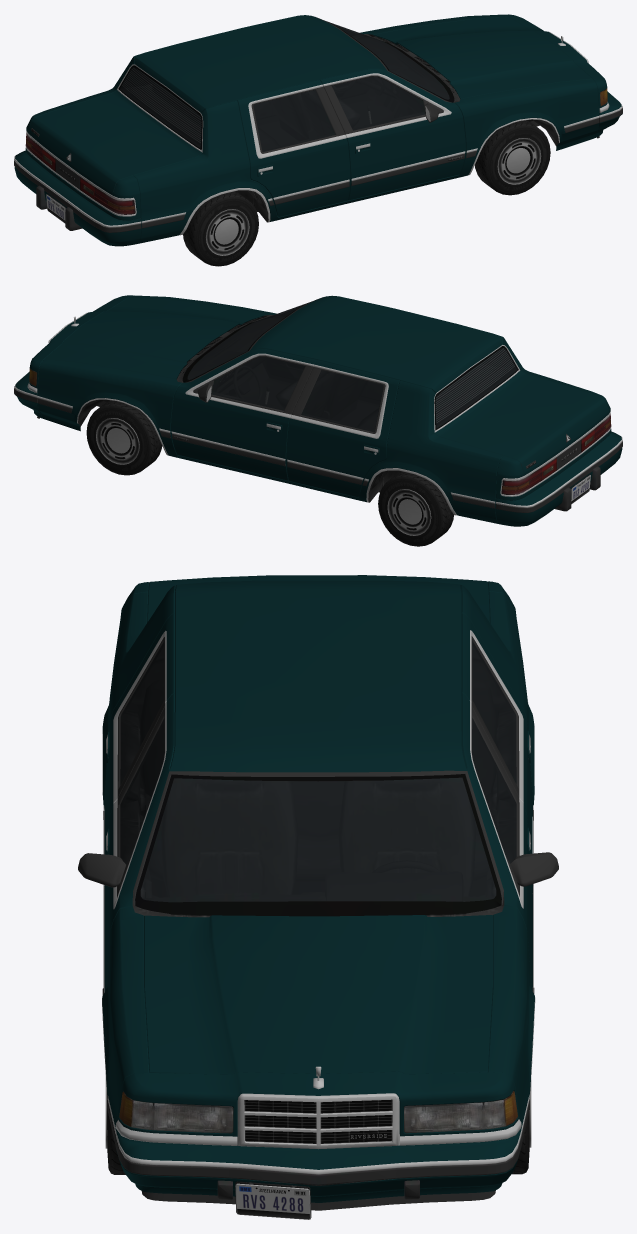
File: riverside_88.glb
3 views of the same model, one above another, from view 1: azimuth 30°, elevation 25°; view 2: azimuth 150°, elevation 25°; view 3: azimuth 270°, elevation 25° (orthographic). The views are drawn at different scales.
Visible parts, largest first — view 1: Riverside88_Body_Riverside88_Bodymat_0, Riverside88_Interior_UCB_Interiors_2_0, Riverside88_bottom_UCB_BOTTOM_0, Riverside88_Hood_Riverside88_Bodymat_0, Riverside88_Trunk_door_Riverside88_Bodymat_0, Riverside88_WheelStock_FR_RB1c_Tire_1k_0, Riverside88_WheelStock_RR_RB1c_Tire_1k_0, Riverside88_Body_Glass_UCB_Lights_and_Glass_Transperent_0, Riverside88_Glass_Passenger_UCB_Lights_and_Glass_Transperent, Riverside88_Rear_window_UCB_Lights_and_Glass_Transperent_0, Riverside88_Bumper_rear_Riverside88_Bodymat_0, Riverside88_Windshield_UCB_Lights_and_Glass_Transperent_0 (+3 smaller); view 2: Riverside88_Body_Riverside88_Bodymat_0, Riverside88_Interior_UCB_Interiors_2_0, Riverside88_bottom_UCB_BOTTOM_0, Riverside88_Hood_Riverside88_Bodymat_0, Riverside88_Trunk_door_Riverside88_Bodymat_0, Riverside88_WheelStock_FL_RB1c_Tire_1k_0, Riverside88_WheelStock_FR_RB1c_Tire_1k_0, Riverside88_Body_Glass_UCB_Lights_and_Glass_Transperent_0, Riverside88_Glass_Driver_UCB_Lights_and_Glass_Transperent_0, Riverside88_Rear_window_UCB_Lights_and_Glass_Transperent_0, Riverside88_Bumper_rear_Riverside88_Bodymat_0, Riverside88_Windshield_UCB_Lights_and_Glass_Transperent_0 (+3 smaller); view 3: Riverside88_Body_Riverside88_Bodymat_0, Riverside88_Hood_Riverside88_Bodymat_0, Riverside88_Interior_UCB_Interiors_2_0, Riverside88_Windshield_UCB_Lights_and_Glass_Transperent_0, Riverside88_bottom_UCB_BOTTOM_0, Riverside88_Bumper_Front_Riverside88_Bodymat_0, Riverside88_Bumper_Front_inner_UCB_BOTTOM_0, Riverside88_Headlights_Glass_UCB_Lights_and_Glass_Transperen, Riverside88_Body_Glass_UCB_Lights_and_Glass_Transperent_0, Riverside88_Headlights_UCB_Lights_and_Glass_0, Riverside88_Trunk_door_Riverside88_Bodymat_0, Riverside88_Glass_Driver_UCB_Lights_and_Glass_Transperent_0 (+2 smaller).
Part boxes in pixels (x1,y1,x2,y2): Riverside88_Body_Riverside88_Bodymat_0: [25, 14, 607, 243]; Riverside88_Interior_UCB_Interiors_2_0: [120, 26, 448, 151]; Riverside88_bottom_UCB_BOTTOM_0: [25, 17, 609, 235]; Riverside88_Hood_Riverside88_Bodymat_0: [373, 16, 592, 98]; Riverside88_Trunk_door_Riverside88_Bodymat_0: [28, 90, 201, 195]; Riverside88_WheelStock_FR_RB1c_Tire_1k_0: [475, 120, 550, 195]; Riverside88_WheelStock_RR_RB1c_Tire_1k_0: [183, 191, 258, 266]; Riverside88_Body_Glass_UCB_Lights_and_Glass_Transperent_0: [253, 90, 335, 151]; Riverside88_Glass_Passenger_UCB_Lights_and_Glass_Transperent: [332, 76, 425, 130]; Riverside88_Rear_window_UCB_Lights_and_Glass_Transperent_0: [120, 67, 201, 148]; Riverside88_Bumper_rear_Riverside88_Bodymat_0: [14, 150, 141, 246]; Riverside88_Windshield_UCB_Lights_and_Glass_Transperent_0: [326, 21, 449, 99]; Riverside88_Body_Riverside88_Bodymat_0: [29, 295, 611, 523]; Riverside88_Interior_UCB_Interiors_2_0: [188, 307, 516, 431]; Riverside88_bottom_UCB_BOTTOM_0: [27, 297, 611, 515]; Riverside88_Hood_Riverside88_Bodymat_0: [45, 297, 263, 379]; Riverside88_Trunk_door_Riverside88_Bodymat_0: [435, 371, 608, 475]; Riverside88_WheelStock_FL_RB1c_Tire_1k_0: [86, 400, 162, 475]; Riverside88_WheelStock_FR_RB1c_Tire_1k_0: [378, 471, 453, 546]; Riverside88_Body_Glass_UCB_Lights_and_Glass_Transperent_0: [301, 370, 383, 432]; Riverside88_Glass_Driver_UCB_Lights_and_Glass_Transperent_0: [211, 357, 305, 410]; Riverside88_Rear_window_UCB_Lights_and_Glass_Transperent_0: [435, 348, 517, 428]; Riverside88_Bumper_rear_Riverside88_Bodymat_0: [495, 431, 622, 526]; Riverside88_Windshield_UCB_Lights_and_Glass_Transperent_0: [187, 301, 312, 379]; Riverside88_Body_Riverside88_Bodymat_0: [102, 580, 534, 1136]; Riverside88_Hood_Riverside88_Bodymat_0: [144, 915, 492, 1074]; Riverside88_Interior_UCB_Interiors_2_0: [121, 643, 515, 901]; Riverside88_Windshield_UCB_Lights_and_Glass_Transperent_0: [140, 777, 496, 902]; Riverside88_bottom_UCB_BOTTOM_0: [78, 630, 558, 1149]; Riverside88_Bumper_Front_Riverside88_Bodymat_0: [116, 1129, 521, 1202]; Riverside88_Bumper_Front_inner_UCB_BOTTOM_0: [115, 1131, 521, 1217]; Riverside88_Headlights_Glass_UCB_Lights_and_Glass_Transperen: [119, 1091, 517, 1133]; Riverside88_Body_Glass_UCB_Lights_and_Glass_Transperent_0: [120, 641, 516, 784]; Riverside88_Headlights_UCB_Lights_and_Glass_0: [132, 1100, 505, 1132]; Riverside88_Trunk_door_Riverside88_Bodymat_0: [147, 575, 489, 622]; Riverside88_Glass_Driver_UCB_Lights_and_Glass_Transperent_0: [472, 718, 516, 863].
Bounding box in the file's own units: 4.91 × 1.32 × 1.91.
8 materials, 7 textured.
